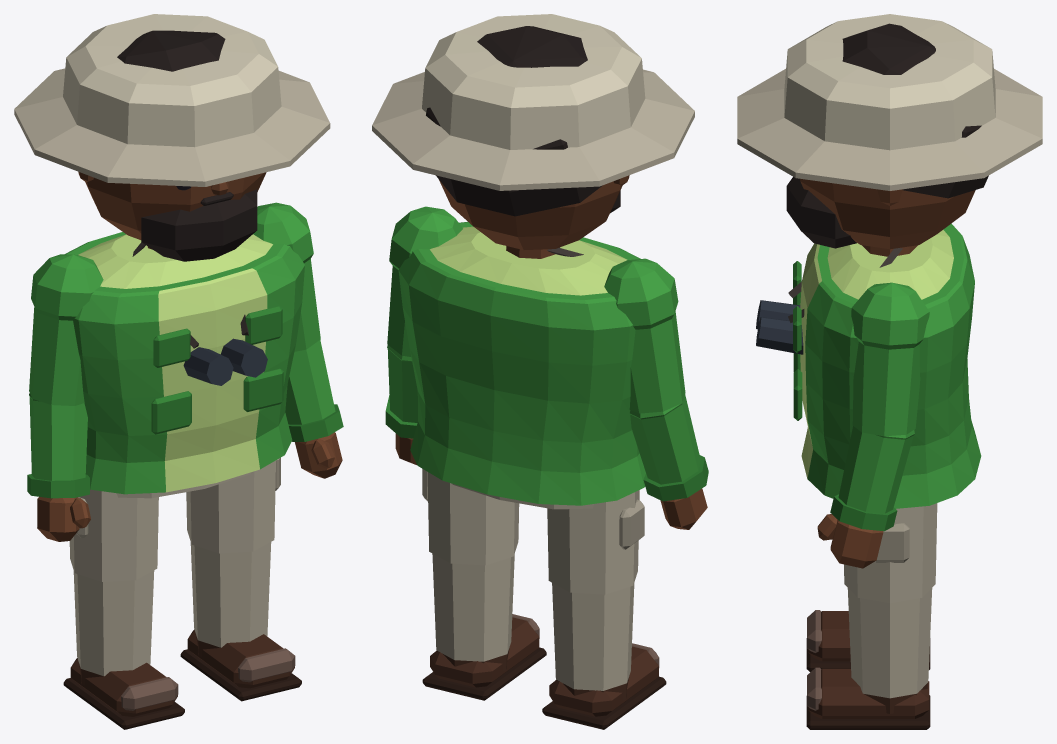
The model's file is ver-n1.glb.
3 renders of one model, left to right at view 1: azimuth 30°, elevation 25°; view 2: azimuth 150°, elevation 25°; view 3: azimuth 270°, elevation 25°, orthographic. The views are drawn at different scales.
Parts seen in each view (by area): view 1: jacke, kopfbedeckung, bein_r, bein_l, arm_r, arm_l, bart, taschen, torso, schuh_l, schuh_r, kopf (+5 smaller); view 2: jacke, kopfbedeckung, bein_r, bein_l, arm_r, torso, haare, arm_l, kopf, schuh_r, schuh_l, hand_r; view 3: kopfbedeckung, jacke, arm_l, bein_l, kopf, schuh_l, torso, haare, schuh_r, bart, hand_l, accessoire_binoculars (+1 smaller).
Boxes of the visible parts, x1=… form: jacke: x1=65, y1=232, x2=304, y2=494; kopfbedeckung: x1=14, y1=14, x2=330, y2=186; bein_r: x1=69, y1=489, x2=158, y2=676; bein_l: x1=186, y1=457, x2=280, y2=647; arm_r: x1=27, y1=254, x2=103, y2=498; arm_l: x1=253, y1=202, x2=343, y2=441; bart: x1=141, y1=189, x2=257, y2=261; taschen: x1=151, y1=306, x2=283, y2=434; torso: x1=78, y1=234, x2=272, y2=288; schuh_l: x1=180, y1=629, x2=301, y2=701; schuh_r: x1=63, y1=658, x2=184, y2=729; kopf: x1=78, y1=172, x2=266, y2=239; jacke: x1=398, y1=222, x2=645, y2=505; kopfbedeckung: x1=372, y1=14, x2=694, y2=190; bein_r: x1=547, y1=490, x2=644, y2=690; bein_l: x1=422, y1=469, x2=519, y2=661; arm_r: x1=604, y1=258, x2=708, y2=501; torso: x1=430, y1=226, x2=627, y2=295; haare: x1=426, y1=26, x2=602, y2=216; arm_l: x1=385, y1=206, x2=462, y2=438; kopf: x1=439, y1=175, x2=629, y2=249; schuh_r: x1=542, y1=643, x2=666, y2=729; schuh_l: x1=422, y1=614, x2=546, y2=700; hand_r: x1=660, y1=488, x2=707, y2=529; kopfbedeckung: x1=737, y1=14, x2=1042, y2=190; jacke: x1=800, y1=223, x2=981, y2=508; arm_l: x1=830, y1=282, x2=929, y2=531; bein_l: x1=844, y1=503, x2=937, y2=698; kopf: x1=800, y1=178, x2=975, y2=249; schuh_l: x1=806, y1=667, x2=930, y2=729; torso: x1=827, y1=229, x2=953, y2=299; haare: x1=842, y1=23, x2=988, y2=198; schuh_r: x1=806, y1=610, x2=930, y2=672; bart: x1=786, y1=177, x2=856, y2=248; hand_l: x1=817, y1=514, x2=883, y2=568; accessoire_binoculars: x1=756, y1=248, x2=902, y2=354.
Size of the model in its own units: 0.0131 by 0.0258 by 0.011.
